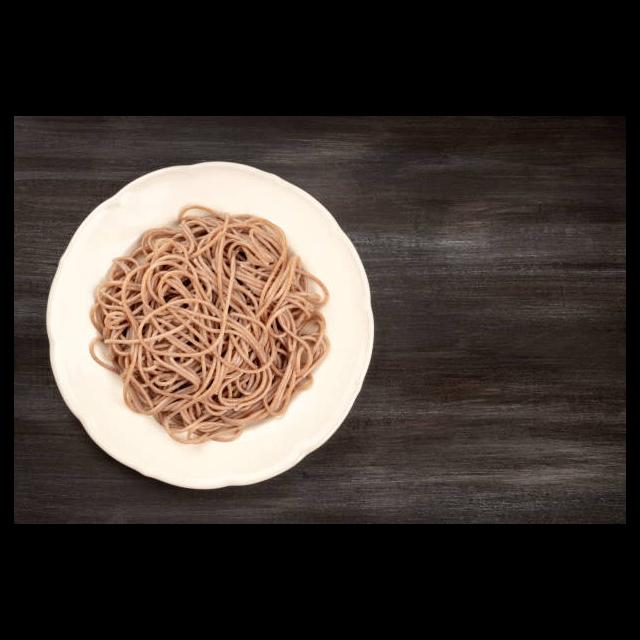noodles: (90, 204, 334, 446)
